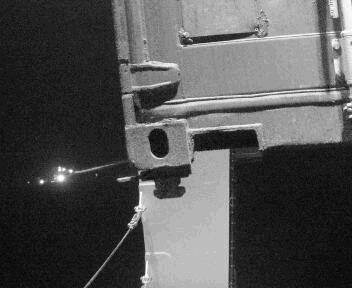twist_lock_1: (130, 157, 196, 207)
